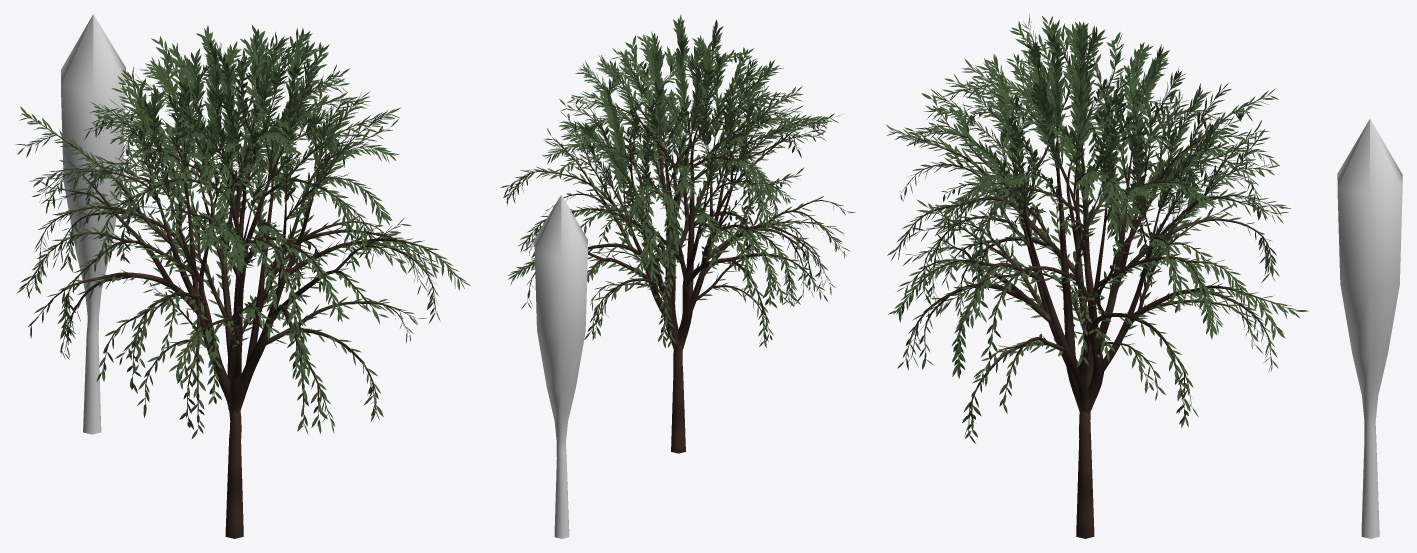
File: tree2.glb
The picture shows the model from 3 angles, left to right: view 1: azimuth 30°, elevation 25°; view 2: azimuth 150°, elevation 25°; view 3: azimuth 270°, elevation 25°; orthographic projection. The views are drawn at different scales.
Parts seen in each view (by area): view 1: leaves.001, tree, tree2Collsiioson; view 2: leaves.001, tree, tree2Collsiioson; view 3: leaves.001, tree, tree2Collsiioson.
Boxes of the visible parts, x1,y1,x2,y2 form: leaves.001: (15,25,470,438); tree: (25,39,461,538); tree2Collsiioson: (61,14,125,434); leaves.001: (500,14,855,348); tree: (508,31,848,453); tree2Collsiioson: (534,195,587,538); leaves.001: (886,14,1308,443); tree: (895,24,1293,538); tree2Collsiioson: (1337,119,1402,538).
Bounding box in the file's own units: 5.93 × 8.03 × 7.36.
2 materials, 2 textured.
